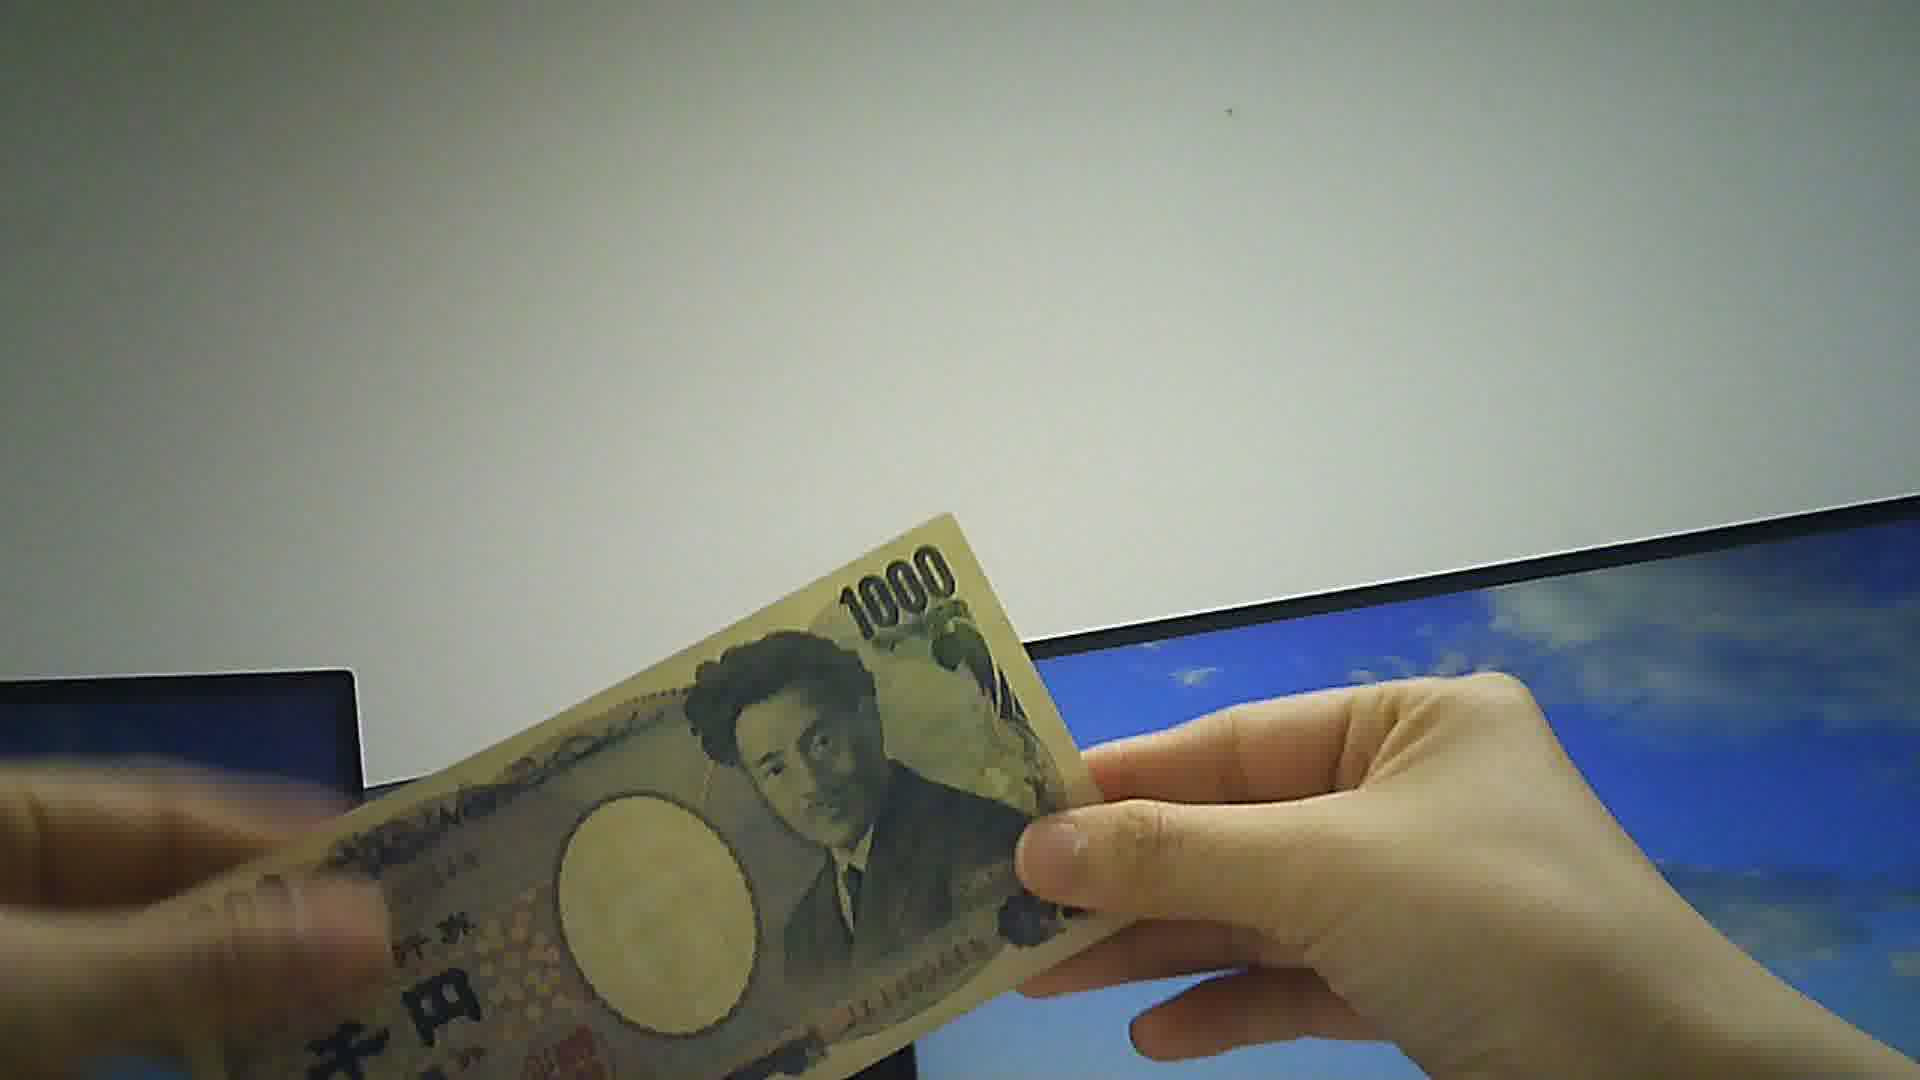1,000 Yen: (137, 496, 1102, 1079)
